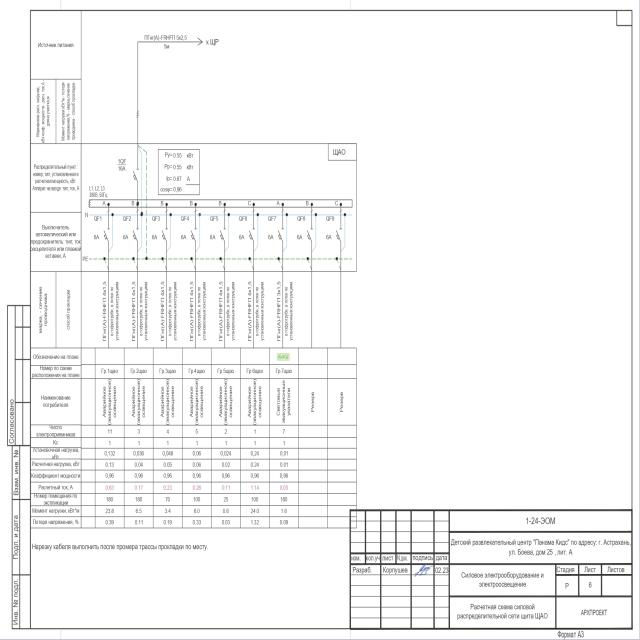-: (331, 146, 346, 158), (120, 233, 132, 241), (266, 232, 276, 241), (295, 232, 304, 241), (116, 165, 127, 172), (91, 233, 102, 240), (237, 233, 246, 241), (325, 233, 333, 241), (209, 233, 217, 241), (151, 232, 159, 240), (180, 232, 187, 240)
QF: (132, 110, 140, 184), (306, 209, 314, 243), (161, 208, 169, 242), (277, 209, 285, 243), (190, 209, 198, 243), (219, 208, 227, 242), (335, 209, 343, 243), (132, 208, 139, 242), (248, 208, 255, 242), (104, 208, 111, 242)
